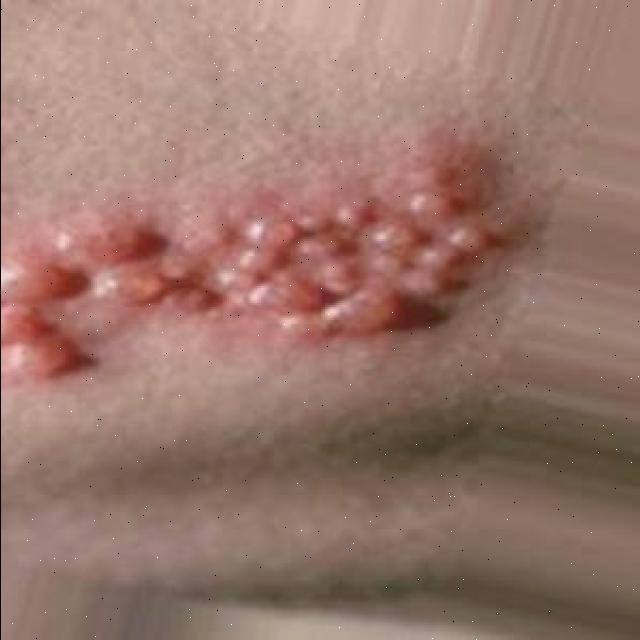Shingles: (2, 139, 507, 373)
